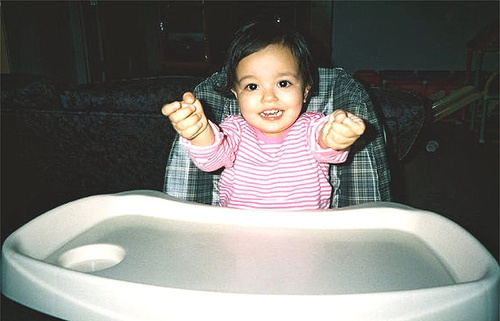head: (227, 23, 319, 134)
person: (163, 12, 378, 214)
